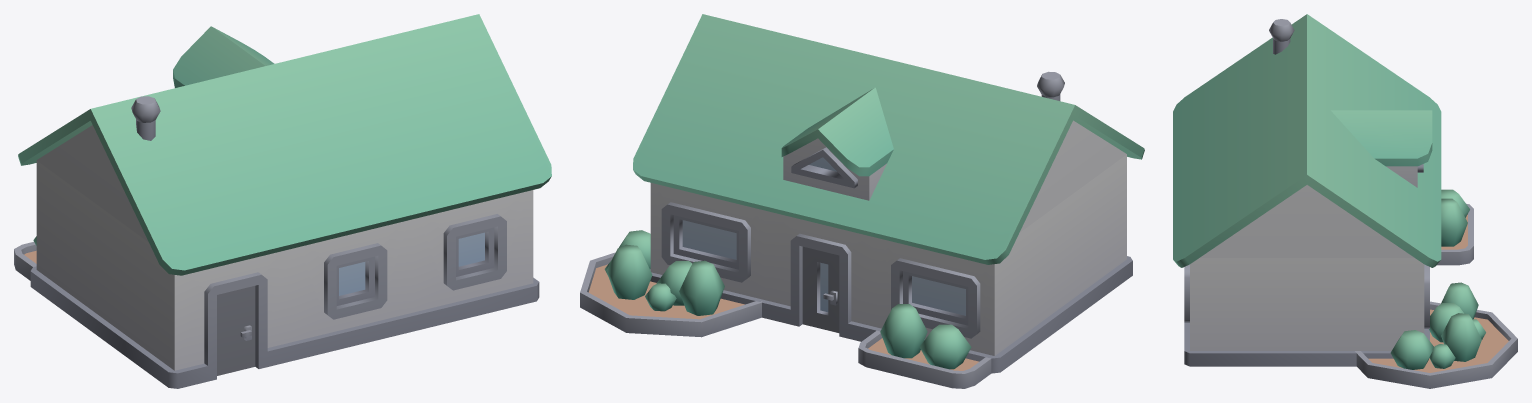
Rendered from building-type-g.glb.
3 renders of one model, left to right at view 1: azimuth 30°, elevation 25°; view 2: azimuth 150°, elevation 25°; view 3: azimuth 270°, elevation 25°, orthographic. The views are drawn at different scales.
Visible parts, largest first — view 1: building-type-g; view 2: building-type-g; view 3: building-type-g.
Part boxes in pixels (left/top/right/bottom): building-type-g: left=14, top=14, right=551, bottom=388; building-type-g: left=580, top=14, right=1144, bottom=388; building-type-g: left=1173, top=14, right=1517, bottom=388.
Bounding box in the file's own units: 1.45 × 0.7682 × 1.18.
